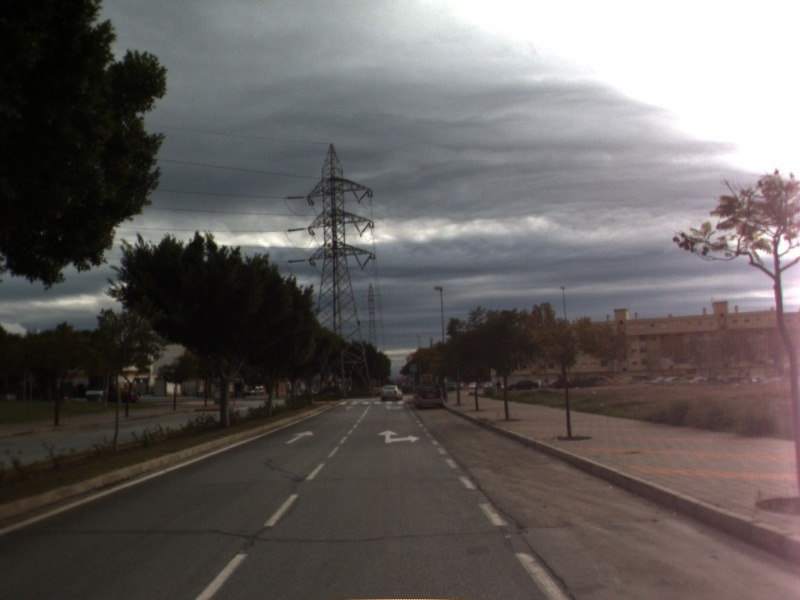STRAIGHT: (283, 428, 316, 445)
STRAIGHT_RIGHT: (375, 428, 422, 445)
